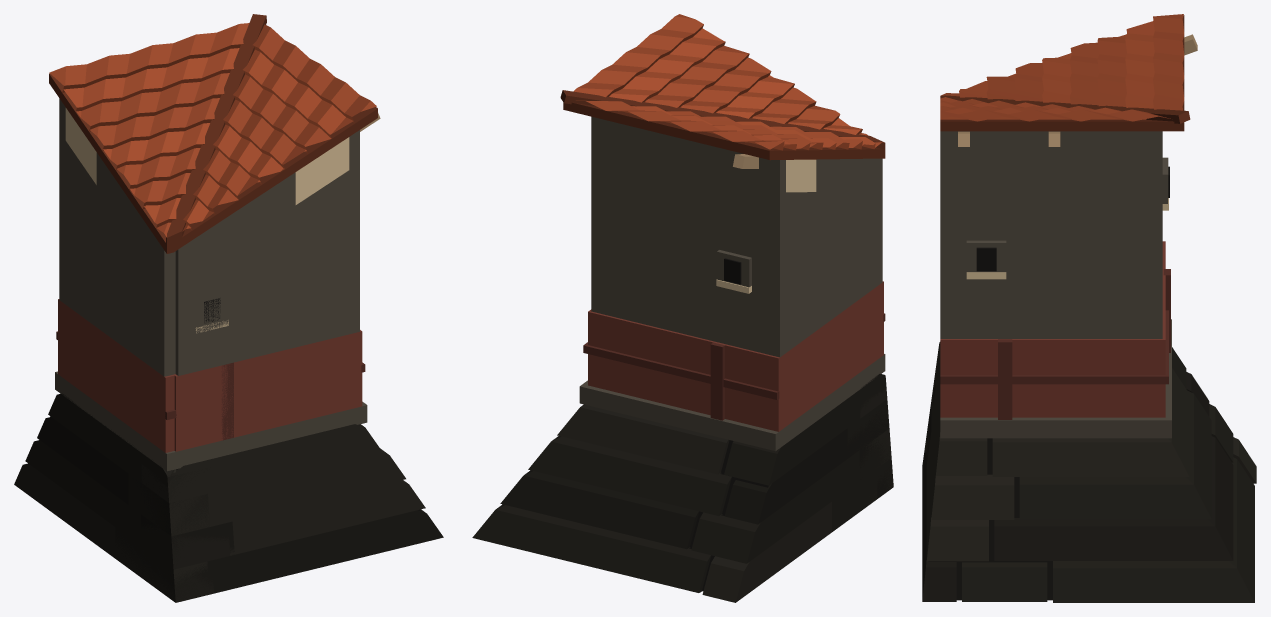
File: VerJoint01.glb
3 views of the same model, side by side, from view 1: azimuth 30°, elevation 25°; view 2: azimuth 150°, elevation 25°; view 3: azimuth 270°, elevation 25° (orthographic). The views are drawn at different scales.
Visible parts, largest first — view 1: VerJoint01_mortar; view 2: VerJoint01_mortar; view 3: VerJoint01_mortar.
Part boxes in pixels (<box>): VerJoint01_mortar: <box>14,14,443,602</box>; VerJoint01_mortar: <box>472,14,893,602</box>; VerJoint01_mortar: <box>922,14,1256,602</box>.
Bounding box in the file's own units: 3.57 × 5.61 × 3.7.
